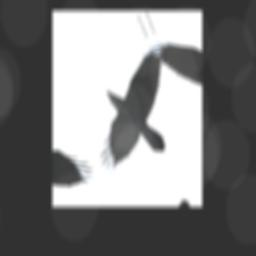Crow: (69, 43, 193, 182)
